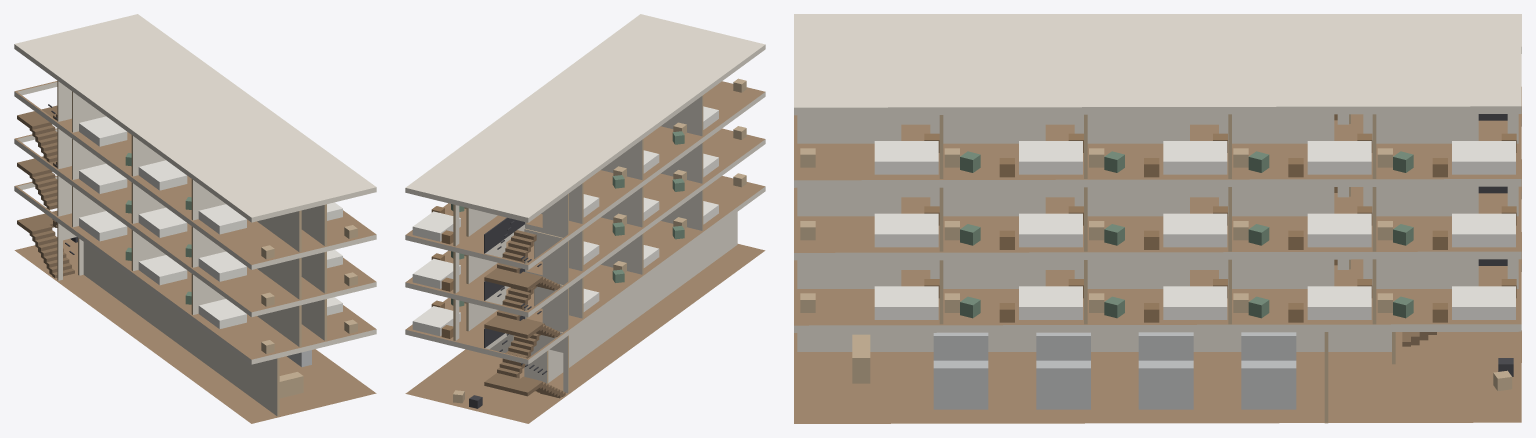
File: interior.glb
3 views of the same model, side by side, from view 1: azimuth 30°, elevation 25°; view 2: azimuth 150°, elevation 25°; view 3: azimuth 270°, elevation 25° (orthographic). The views are drawn at different scales.
Visible parts, largest first — view 1: slabs, partitions, stair, coarse-s2, coarse-s1, coarse-s3, coarse-s0; view 2: slabs, partitions, stair, coarse-s1, coarse-s2, coarse-s3; view 3: slabs, partitions, coarse-s0, coarse-s2, coarse-s3, coarse-s1, stair.
Part boxes in pixels (left/top/right/bottom): slabs: left=14, top=14, right=376, bottom=423; partitions: left=57, top=80, right=326, bottom=416; stair: left=17, top=104, right=74, bottom=278; coarse-s2: left=79, top=163, right=357, bottom=306; coarse-s1: left=79, top=211, right=357, bottom=353; coarse-s3: left=79, top=116, right=357, bottom=259; coarse-s0: left=70, top=237, right=311, bottom=398; slabs: left=405, top=14, right=765, bottom=423; partitions: left=453, top=95, right=737, bottom=393; stair: left=484, top=217, right=565, bottom=398; coarse-s1: left=412, top=173, right=746, bottom=338; coarse-s2: left=412, top=126, right=746, bottom=291; coarse-s3: left=412, top=78, right=746, bottom=244; slabs: left=794, top=14, right=1521, bottom=423; partitions: left=797, top=114, right=1518, bottom=423; coarse-s0: left=852, top=332, right=1513, bottom=409; coarse-s2: left=800, top=187, right=1516, bottom=249; coarse-s3: left=800, top=114, right=1516, bottom=177; coarse-s1: left=800, top=259, right=1516, bottom=322; stair: left=1402, top=114, right=1507, bottom=346.
Size of the model in its own units: 6.91 by 10.91 by 22.71.
